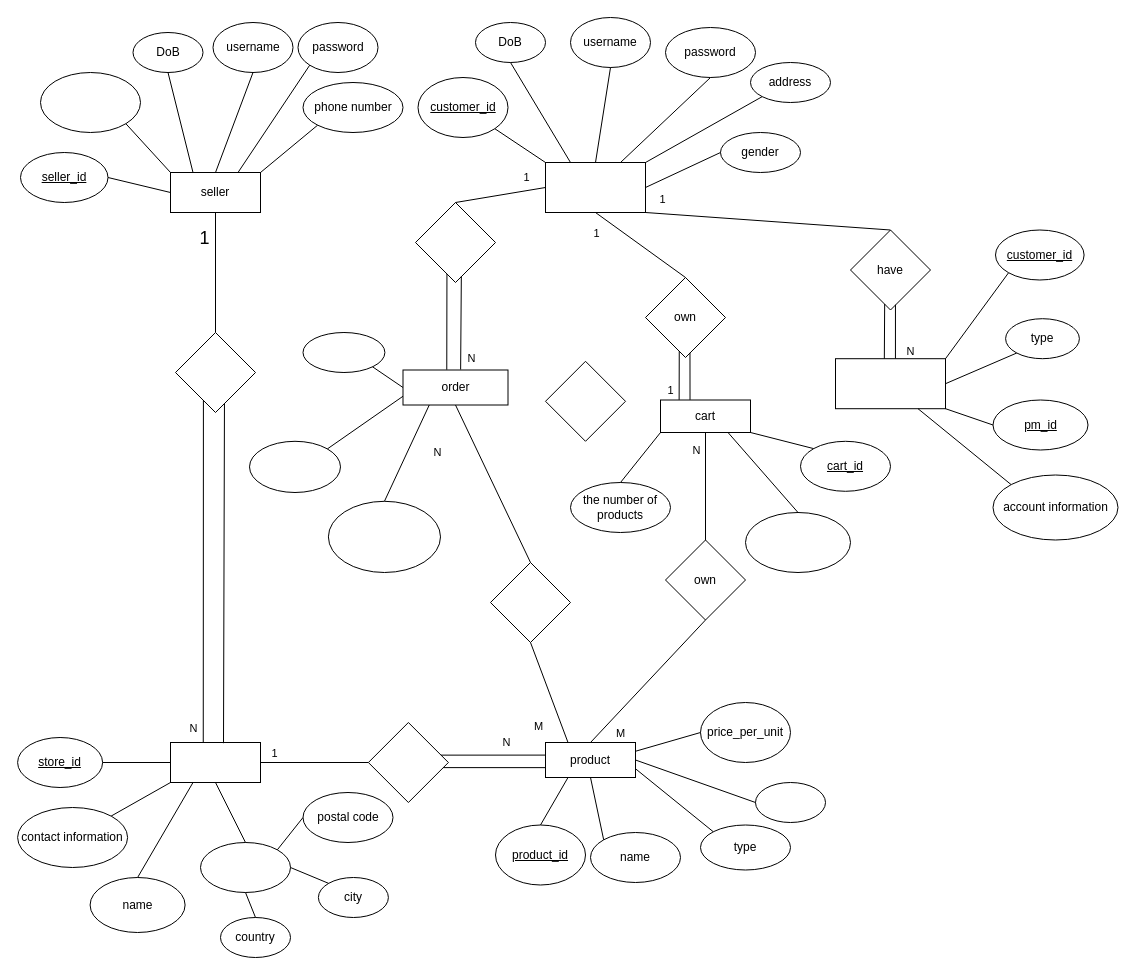
Image size: 1136x975. Some labels were removed from this diagram. The shapes that lost their labels are listed below. From the top down, each one's centre as x and y in pixels, then its label:
(x=90, y=102): credit score
(x=595, y=187): customer
(x=455, y=242): place
(x=215, y=372): manage
(x=343, y=352): order_id
(x=585, y=400): purchase
(x=890, y=383): payment method
(x=294, y=466): timestamp
(x=383, y=536): delivery information
(x=797, y=542): products he or she wants
(x=530, y=602): contain
(x=215, y=762): store
(x=407, y=762): sell
(x=790, y=802): size
(x=245, y=867): location
